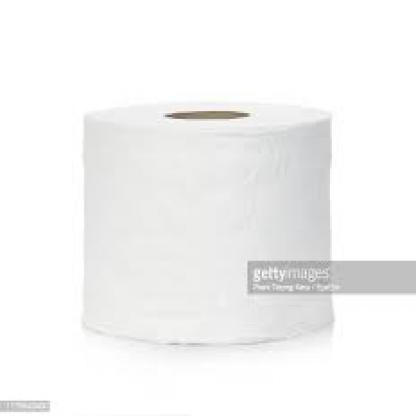tissue: (78, 105, 343, 351)
